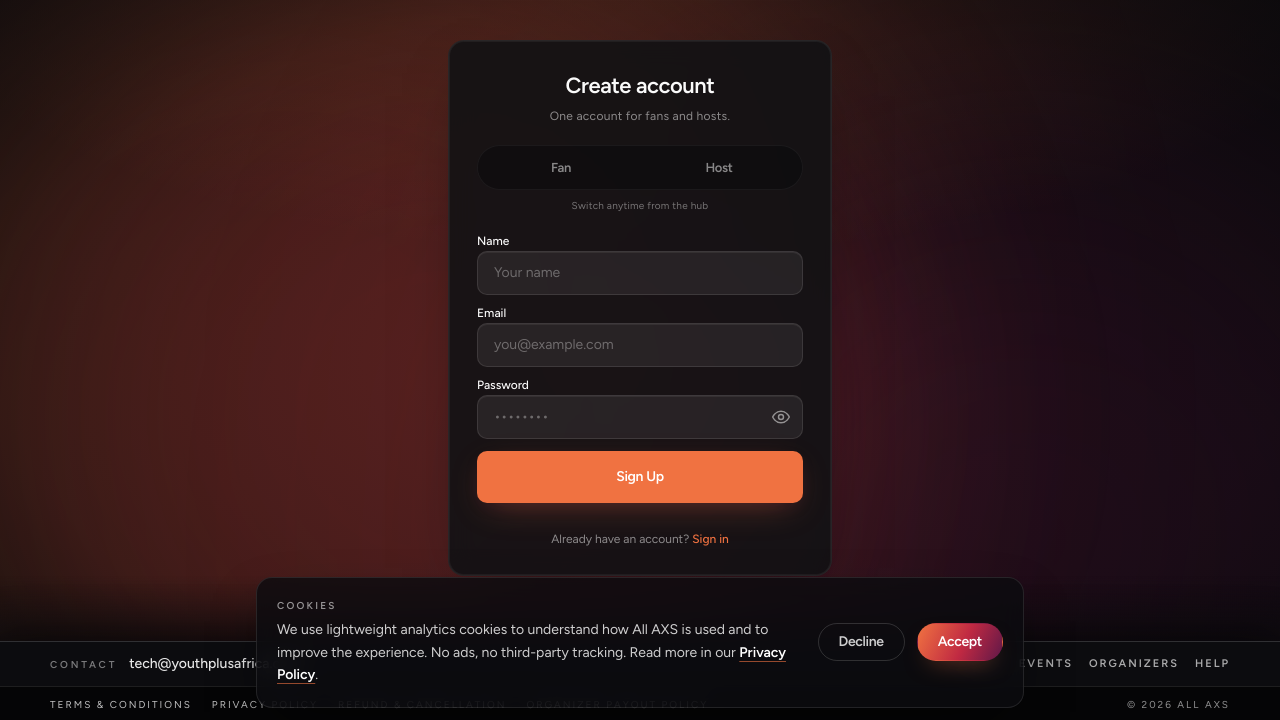
Auth email flows (stubbed API) › Register → check email › submits registration then shows check-email with resend CTA
In the field named "name": [640, 273] box [477, 251, 803, 295], type "Cypress Buyer"
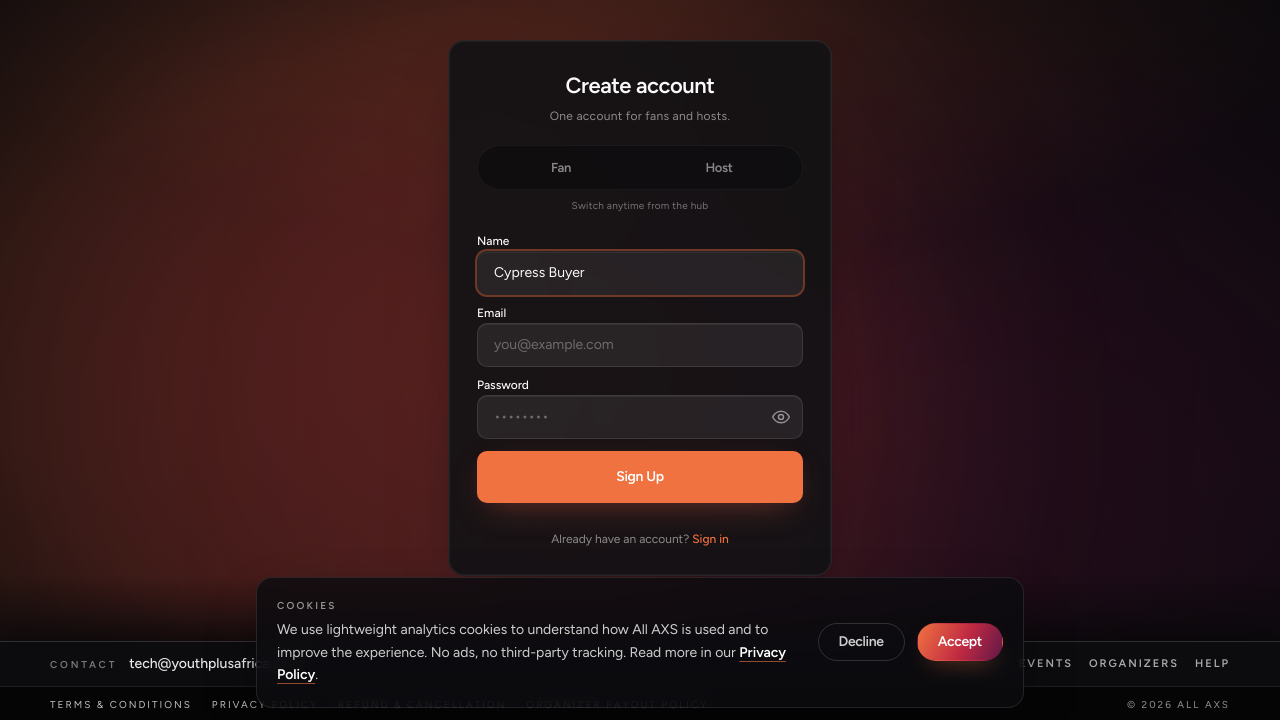
In the field labelled "Email": [640, 345] box [477, 323, 803, 367], type "buyer@example.com"
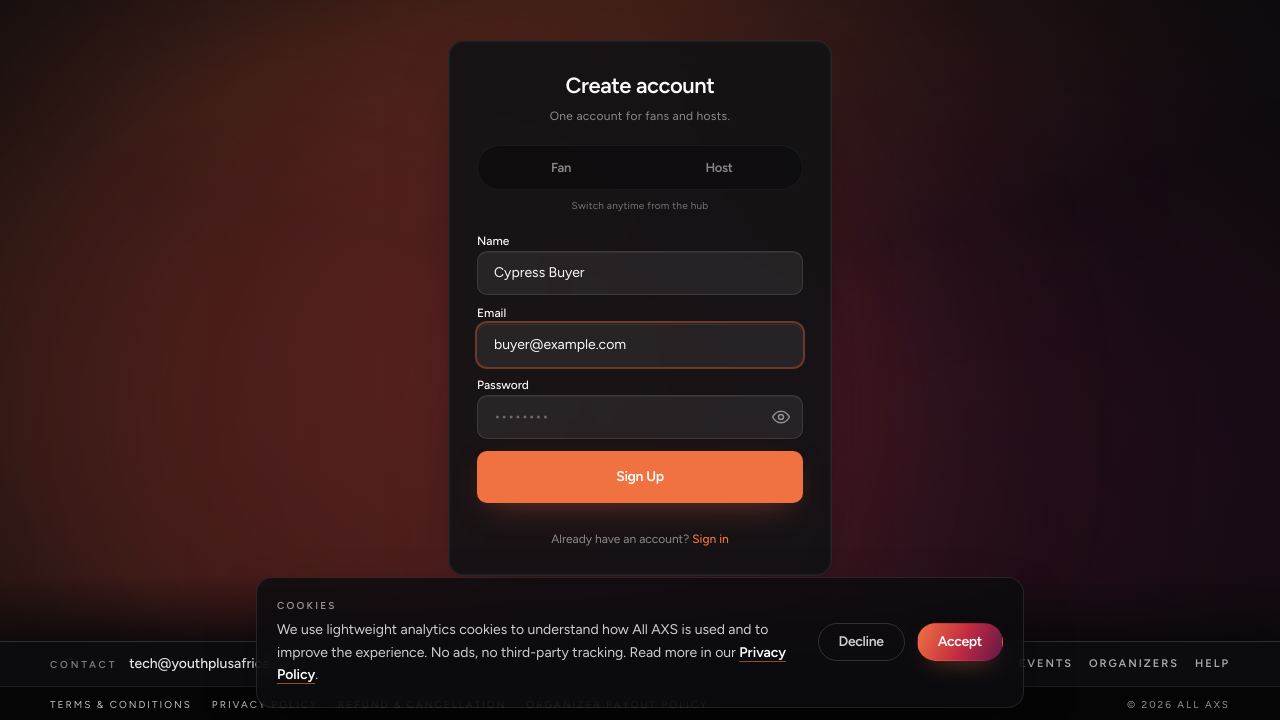
In the password field labelled "Password": [640, 417] box [477, 395, 803, 439], type "password123"
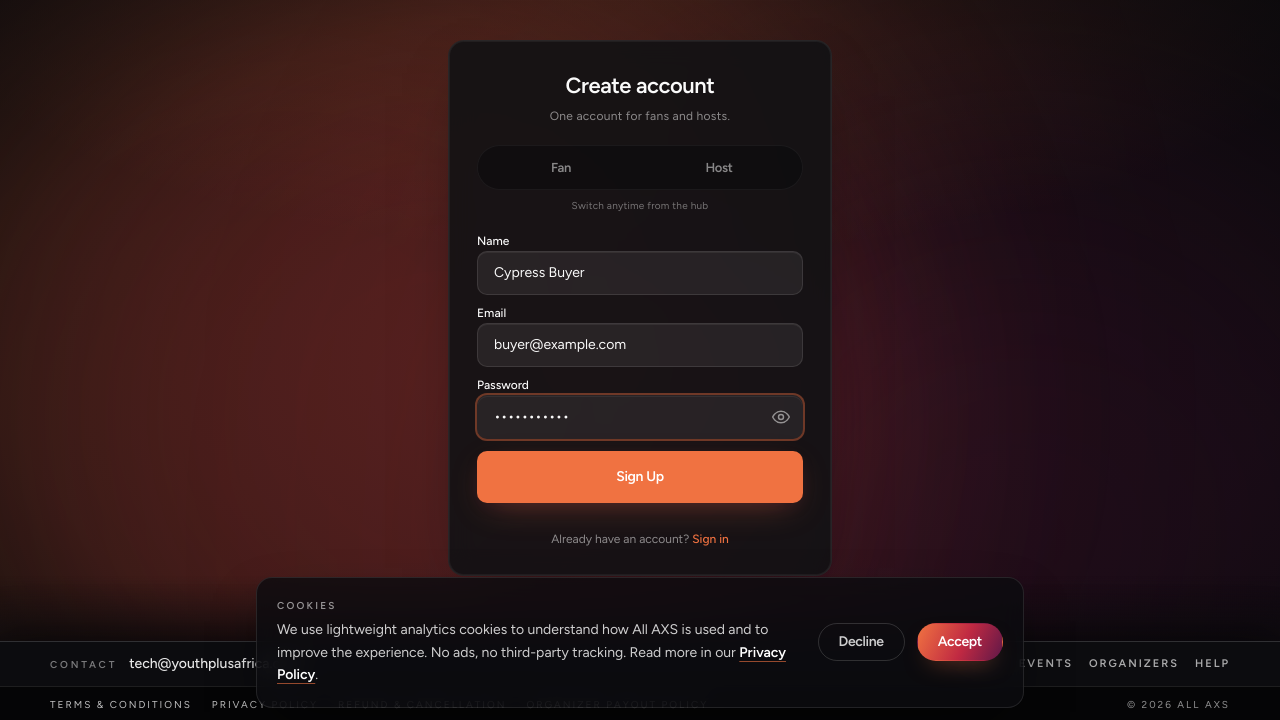
Click the button "Sign Up": [640, 477] box [477, 451, 803, 503]
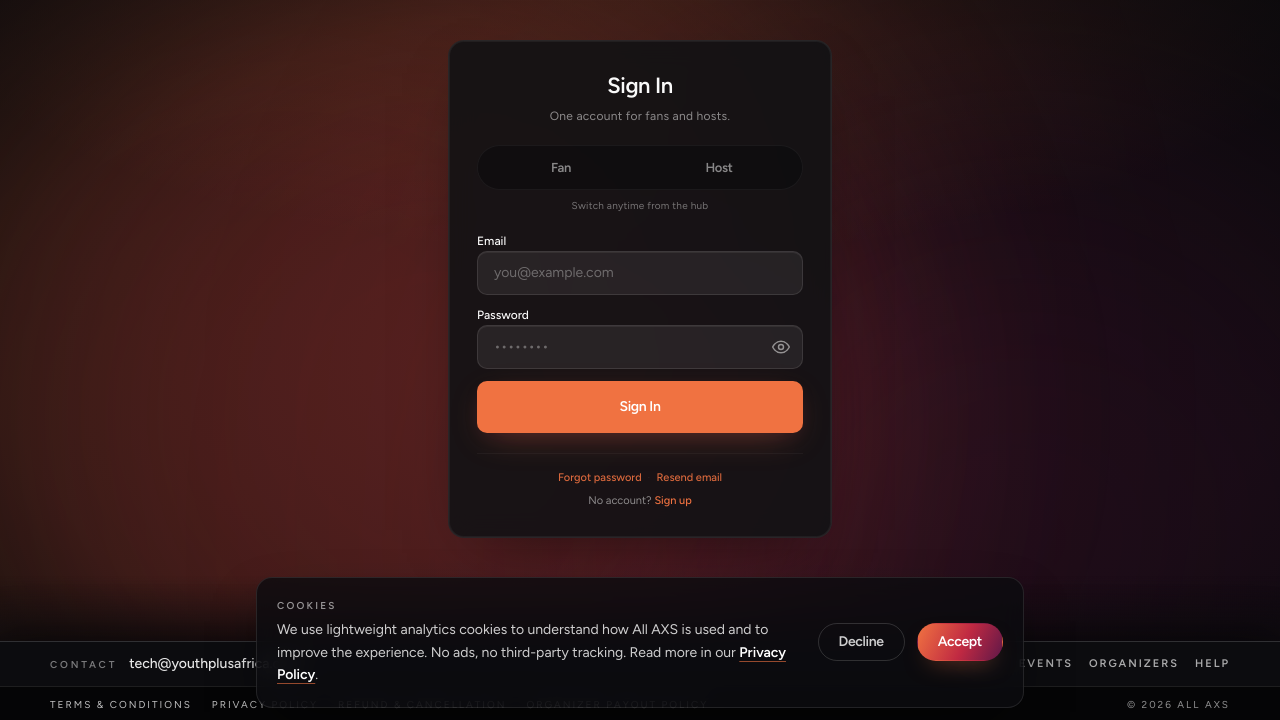
Open "/check-email"
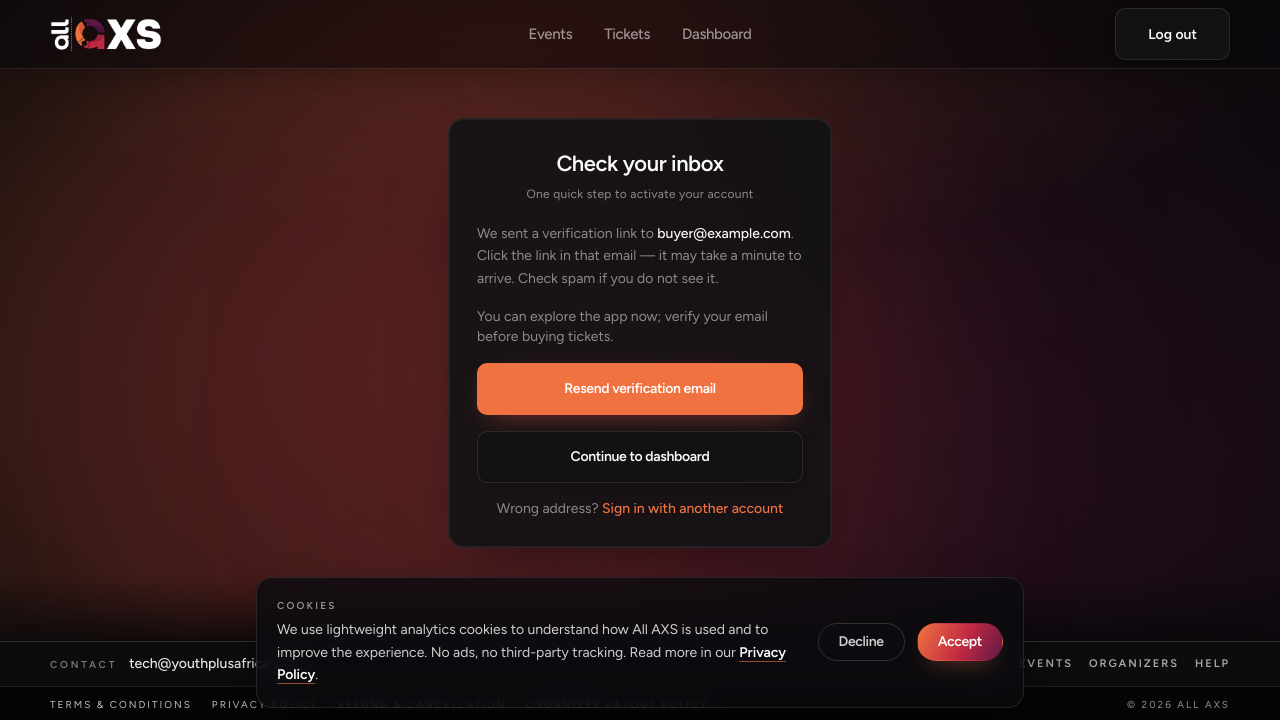
Expected: the heading "Check your inbox" is shown, [556, 150, 724, 177]
Expected: the text "buyer@example.com" is shown, [657, 225, 791, 242]
Expected: the button "Resend verification email" is shown, [477, 363, 803, 415]
